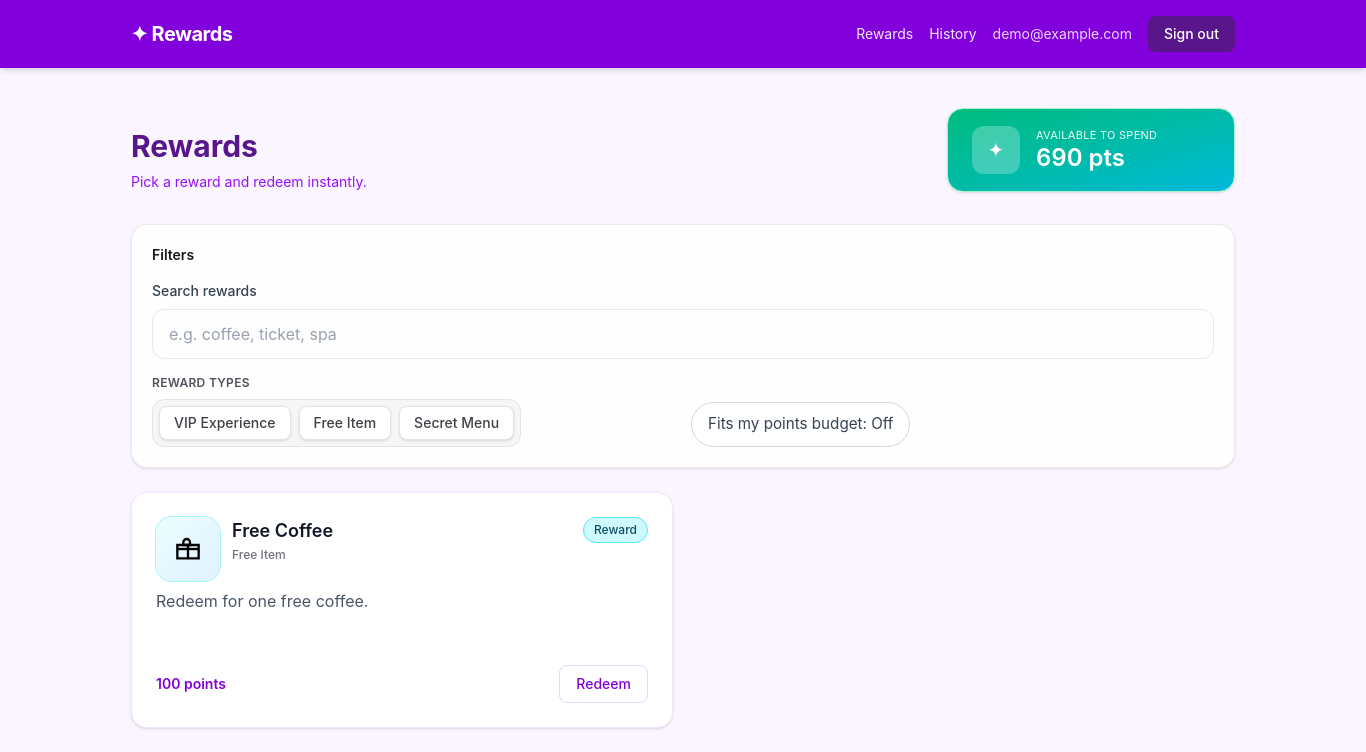
RewardsPage › shows redeem error as flash while keeping rewards visible
The width and height of the screenshot is (1366, 752).
Expected: the heading "Free Coffee" is shown, [232,517,333,545]
Step 1. Click the button "Redeem" → (604,684), box [559,665,648,703]
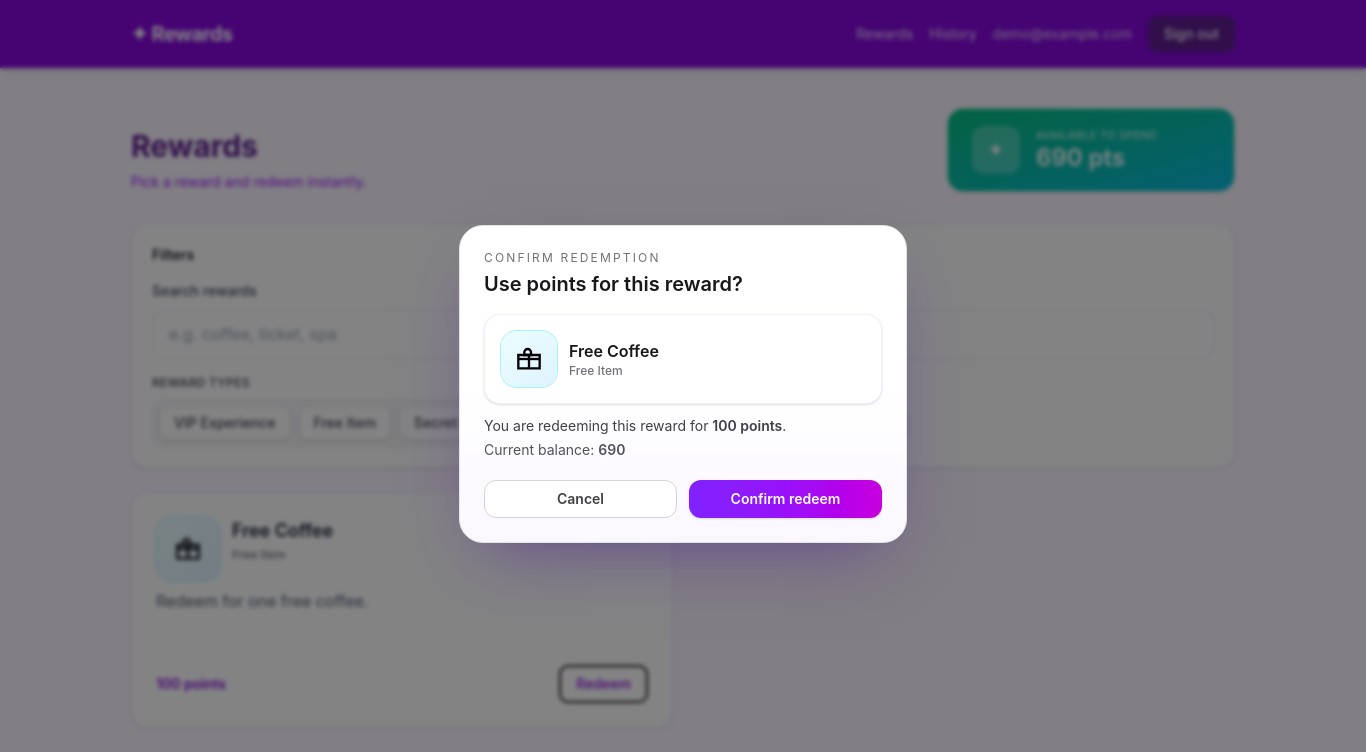
Step 2. Click the button "Confirm redeem" → (786,499), box [689,480,882,518]
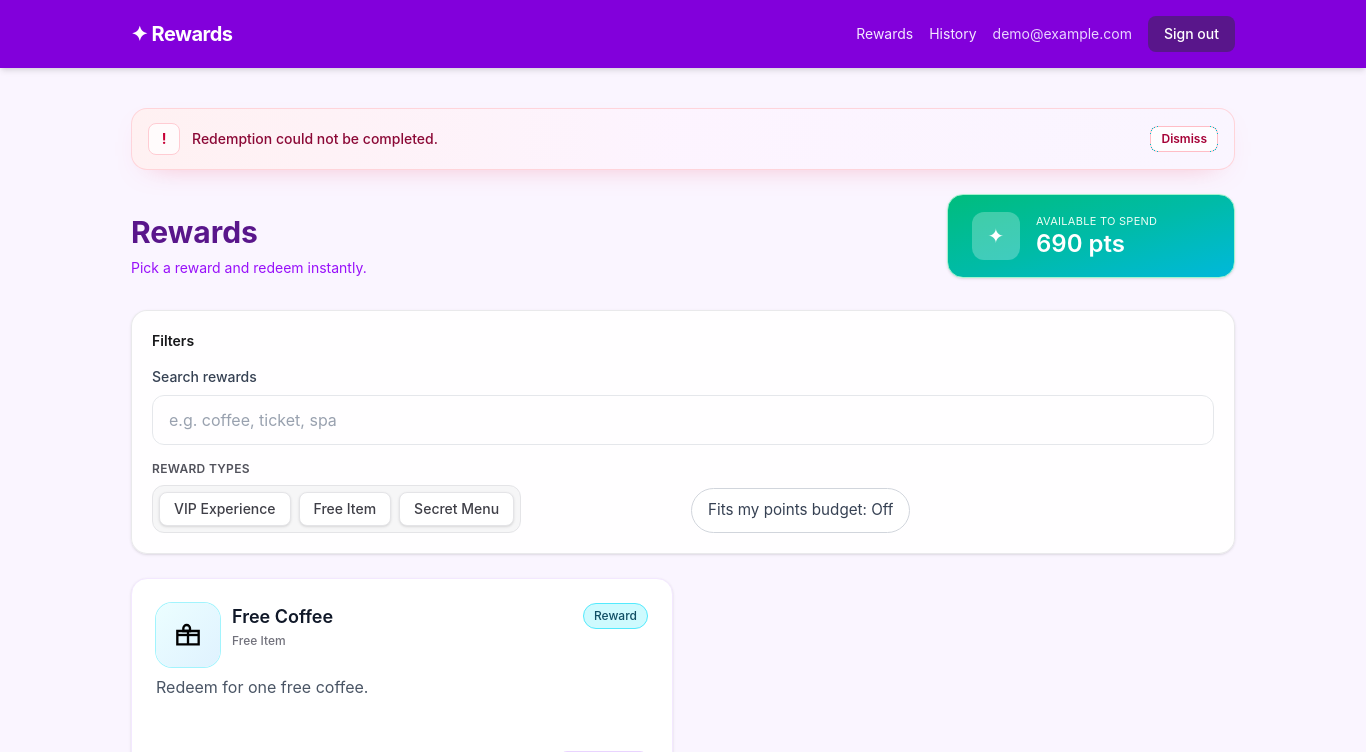
Expected: the heading "Free Coffee" is shown, [232,603,333,631]
Expected: the message shows "Redemption could not be completed.", [192,130,438,147]
